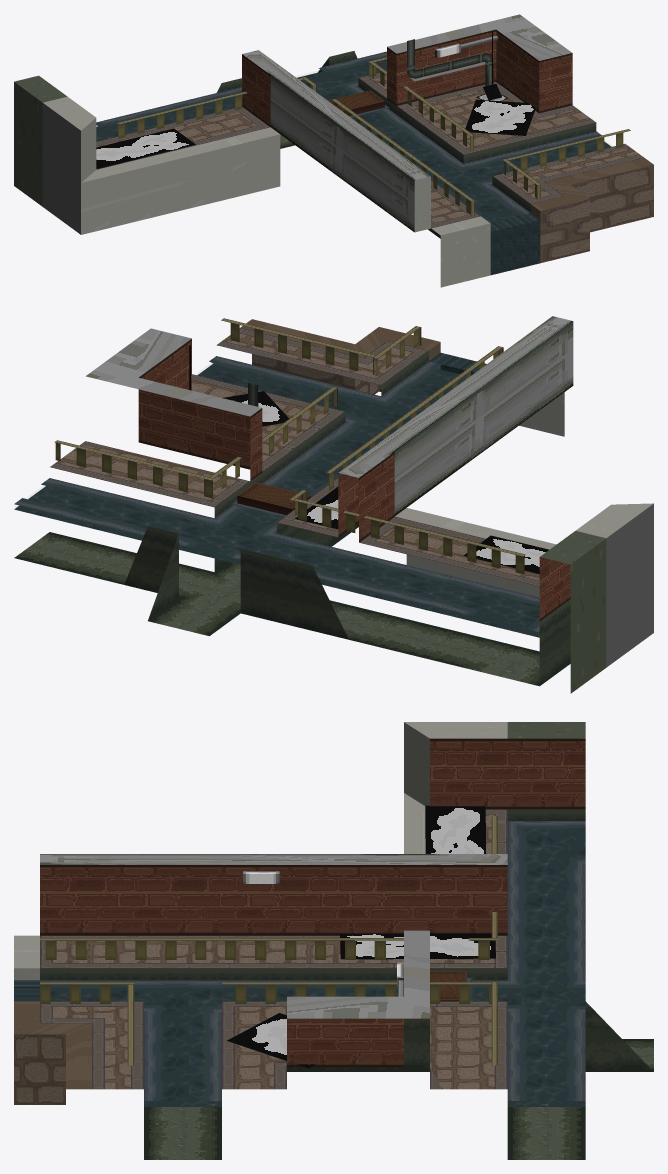
The picture shows the model from 3 angles, top to bottom: view 1: azimuth 30°, elevation 25°; view 2: azimuth 150°, elevation 25°; view 3: azimuth 270°, elevation 25°; orthographic projection. The views are drawn at different scales.
Visible parts, largest first — view 1: polygon12, polygon7, polygon9, polygon3, polygon8, polygon5, polygon10, polygon2, polygon0, polygon14, polygon22, polygon6 (+2 smaller); view 2: polygon3, polygon9, polygon21, polygon6, polygon8, polygon7, polygon2, polygon10, polygon5, polygon0, polygon22, polygon12 (+2 smaller); view 3: polygon8, polygon3, polygon7, polygon2, polygon5, polygon6, polygon9, polygon10, polygon21, polygon14, polygon12, polygon22 (+2 smaller).
Boxes of the visible parts, box(x1,y1,x2,y2) form: polygon12: box(43, 96, 490, 287); polygon7: box(96, 75, 653, 263); polygon9: box(242, 14, 571, 232); polygon3: box(96, 59, 611, 275); polygon8: box(242, 29, 572, 126); polygon5: box(96, 72, 643, 228); polygon10: box(117, 57, 630, 216); polygon2: box(96, 51, 601, 222); polygon0: box(42, 103, 80, 234); polygon14: box(96, 99, 535, 168); polygon22: box(14, 75, 66, 206); polygon6: box(217, 51, 596, 238); polygon3: box(14, 353, 539, 637); polygon9: box(86, 316, 573, 515); polygon21: box(14, 532, 539, 686); polygon6: box(124, 351, 570, 685); polygon8: box(138, 339, 570, 621); polygon7: box(56, 319, 539, 580); polygon2: box(14, 356, 539, 632); polygon10: box(54, 318, 525, 574); polygon5: box(50, 328, 539, 586); polygon0: box(606, 503, 653, 667); polygon22: box(540, 531, 606, 693); polygon12: box(395, 392, 653, 597); polygon8: box(40, 738, 585, 1067); polygon3: box(14, 828, 585, 1106); polygon7: box(14, 814, 494, 1104); polygon2: box(40, 821, 585, 1100); polygon5: box(40, 809, 507, 1089); polygon6: box(40, 809, 653, 1071); polygon9: box(40, 854, 507, 1018); polygon10: box(40, 816, 497, 1065); polygon21: box(144, 1039, 653, 1159); polygon14: box(227, 805, 495, 1068); polygon12: box(14, 722, 507, 980); polygon22: box(507, 722, 585, 738).
Size of the model in its own units: 6.75 by 1.75 by 6.16.
